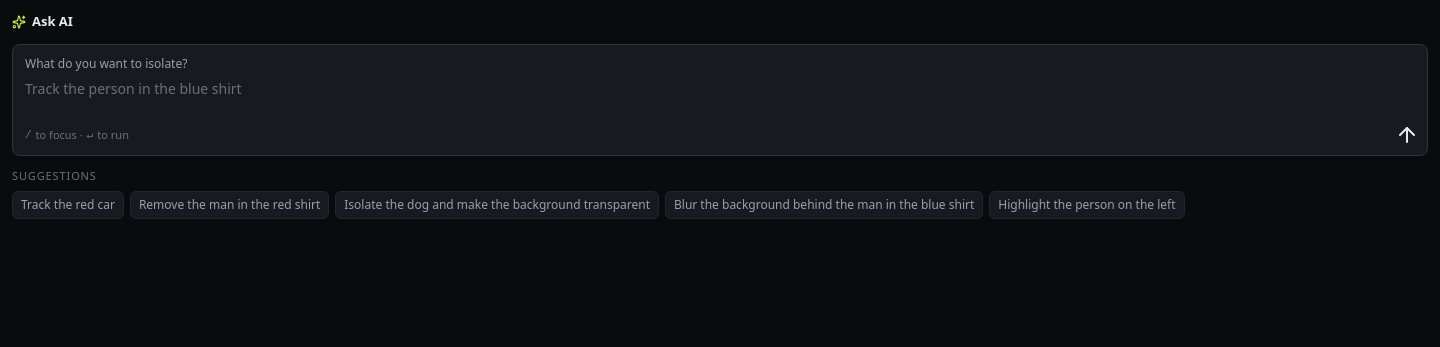
Test: AIPanel › shows plain-language errors with a hint
Type "Track the unicorn" into the text box labelled "What do you want to isolate?" at (720, 98), box [13,72,1427,123]
Then press Enter
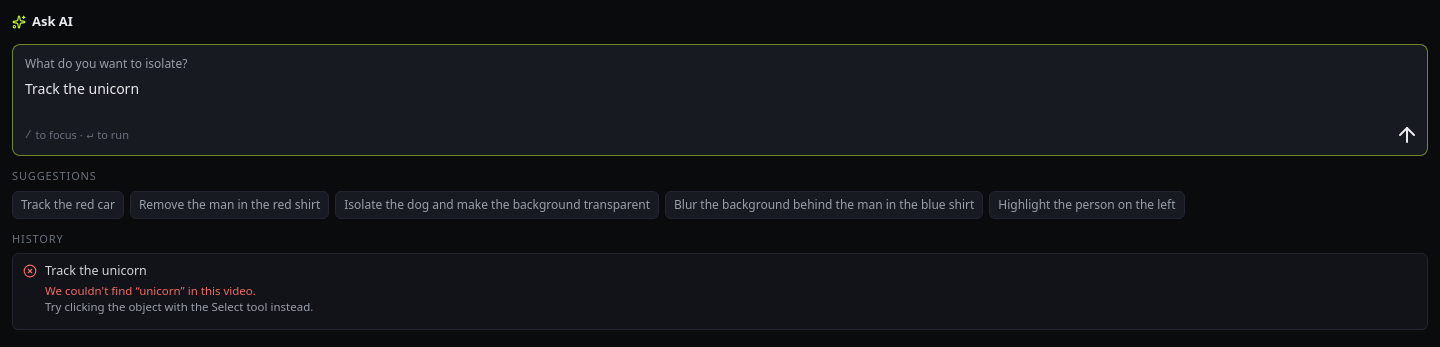
Now the text "We couldn't find “unicorn” in this video." is shown, box [45,283,256,298]
Now the text "Try clicking the object with the Select tool instead." is shown, box [45,299,313,314]
